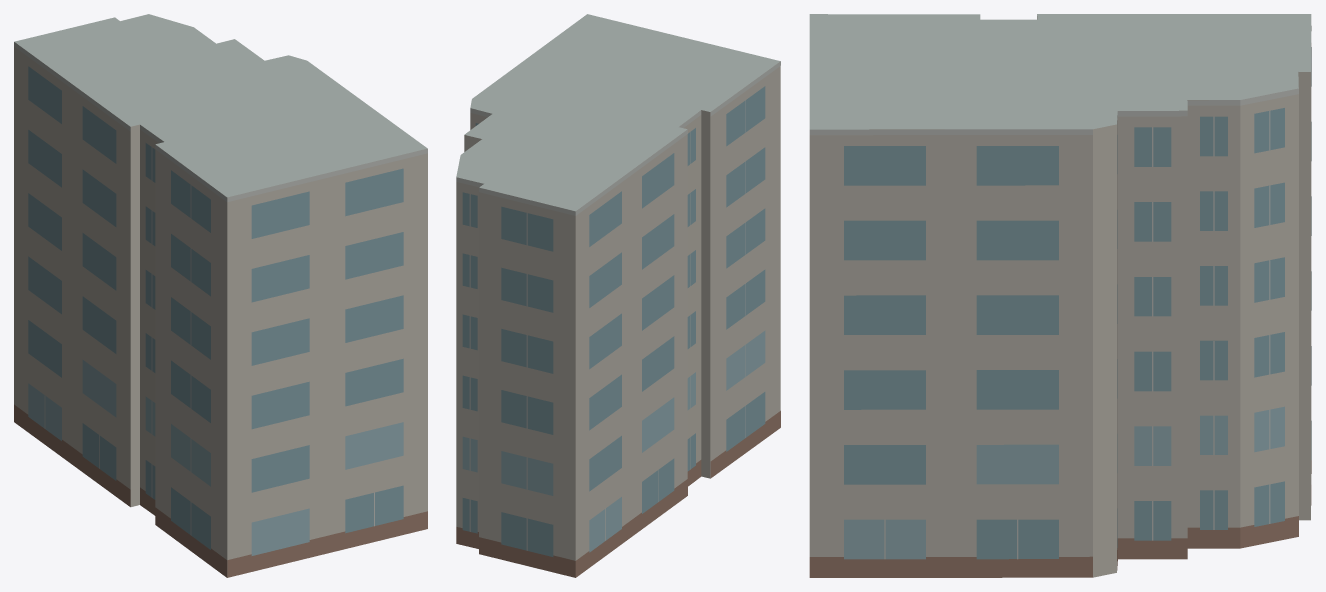
Rendered from survey-upis-32681424.glb.
The picture shows the model from 3 angles, left to right: view 1: azimuth 30°, elevation 25°; view 2: azimuth 150°, elevation 25°; view 3: azimuth 270°, elevation 25°; orthographic projection. The views are drawn at different scales.
Parts seen in each view (by area): view 1: survey-upis-32681424.tmp; view 2: survey-upis-32681424.tmp; view 3: survey-upis-32681424.tmp.
Boxes of the visible parts, left/top/right/bottom form: survey-upis-32681424.tmp: left=14, top=14, right=427, bottom=577; survey-upis-32681424.tmp: left=456, top=14, right=780, bottom=577; survey-upis-32681424.tmp: left=809, top=14, right=1311, bottom=577.
Bounding box in the file's own units: 10.62 × 19.2 × 19.49.
